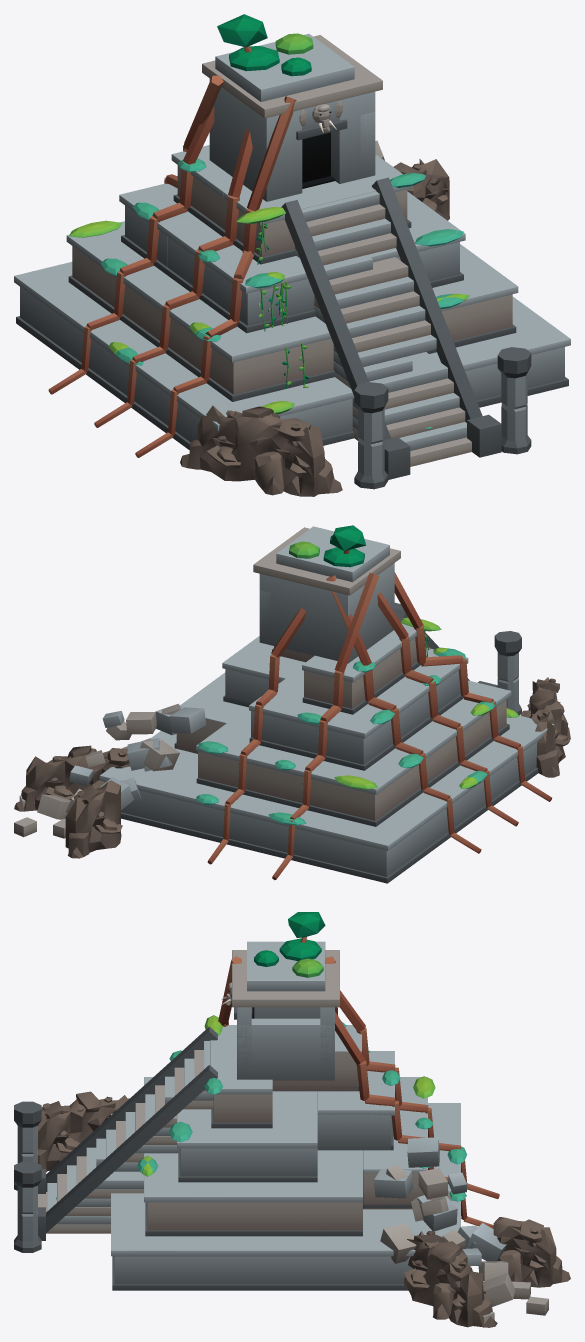
File: jungle_temple.glb
The picture shows the model from 3 angles, top to bottom: view 1: azimuth 30°, elevation 25°; view 2: azimuth 150°, elevation 25°; view 3: azimuth 270°, elevation 25°; orthographic projection. The views are drawn at different scales.
Parts seen in each view (by area): view 1: jungle_temple; view 2: jungle_temple; view 3: jungle_temple.
Boxes of the visible parts, bbox=[...] form: jungle_temple: bbox=[14, 14, 570, 496]; jungle_temple: bbox=[14, 525, 570, 883]; jungle_temple: bbox=[14, 912, 570, 1327].
Bounding box in the file's own units: 19.44 × 13.29 × 22.76.
Materials: 6 (6 with a texture image).
